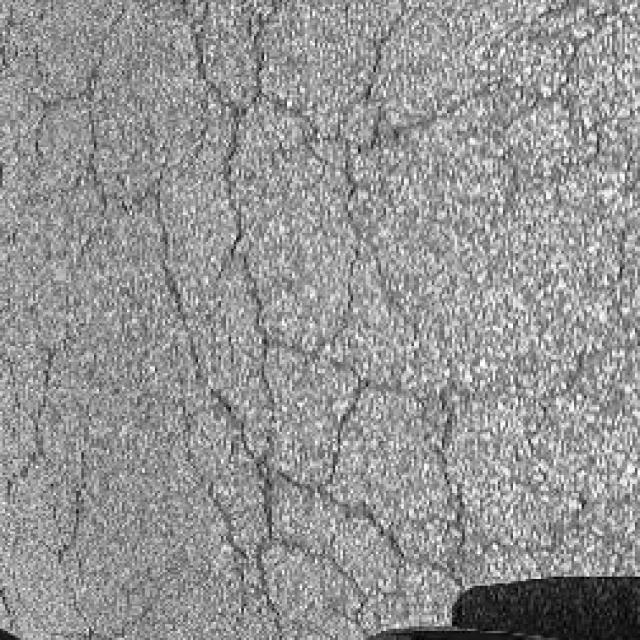GRIETA: (527, 0, 638, 190), (524, 348, 589, 554), (391, 78, 514, 145)
PIEL DE COCODRILO: (0, 0, 494, 639)
